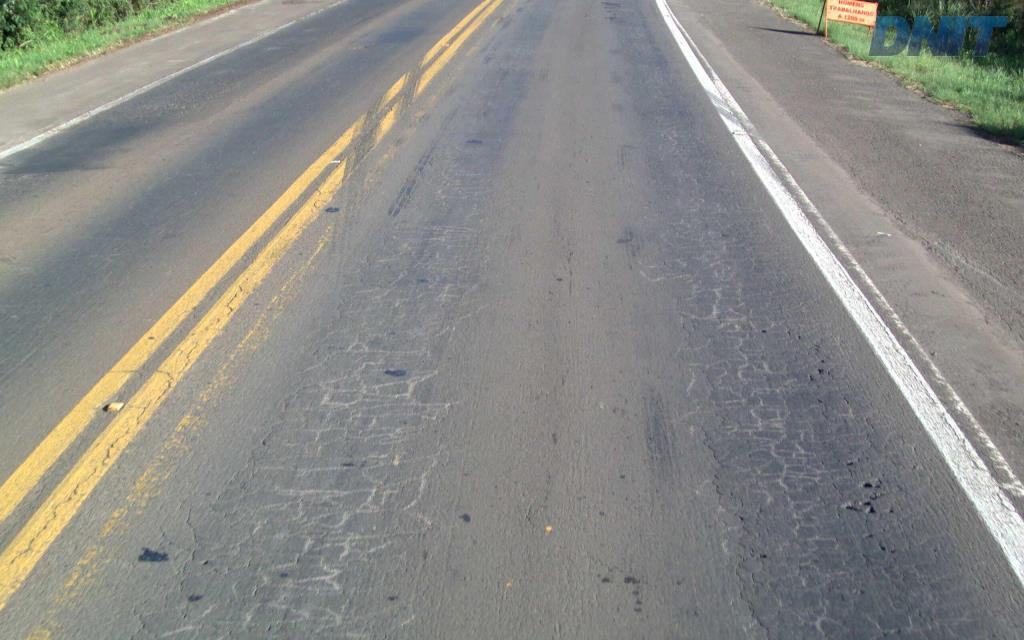crack: (861, 533, 896, 580), (883, 557, 916, 595)
pothole: (859, 499, 875, 517), (841, 498, 857, 511), (858, 480, 879, 488)
